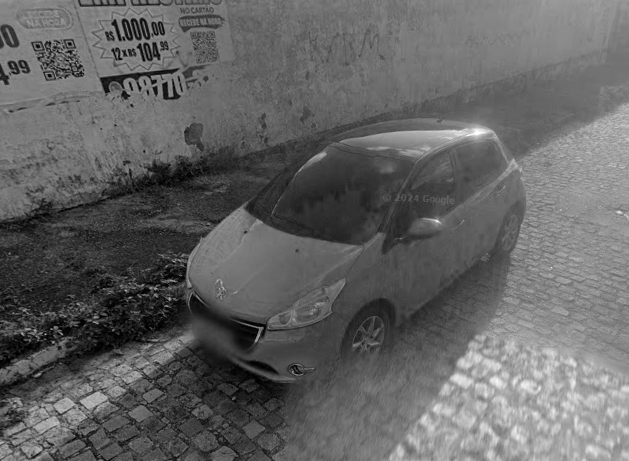car: (183, 114, 529, 386)
